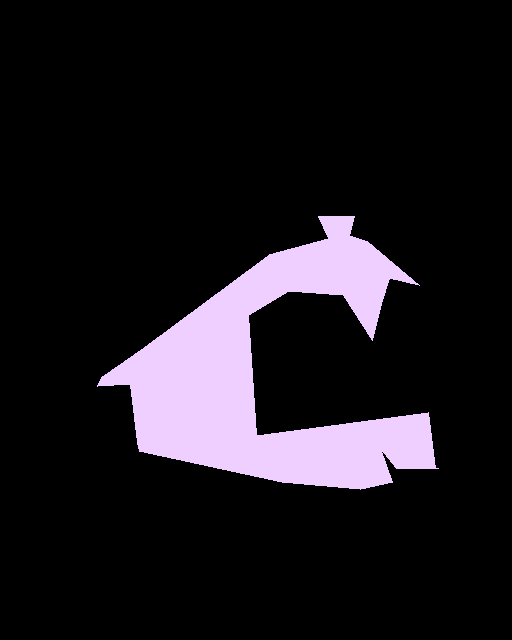Train: (97, 216, 438, 490)
